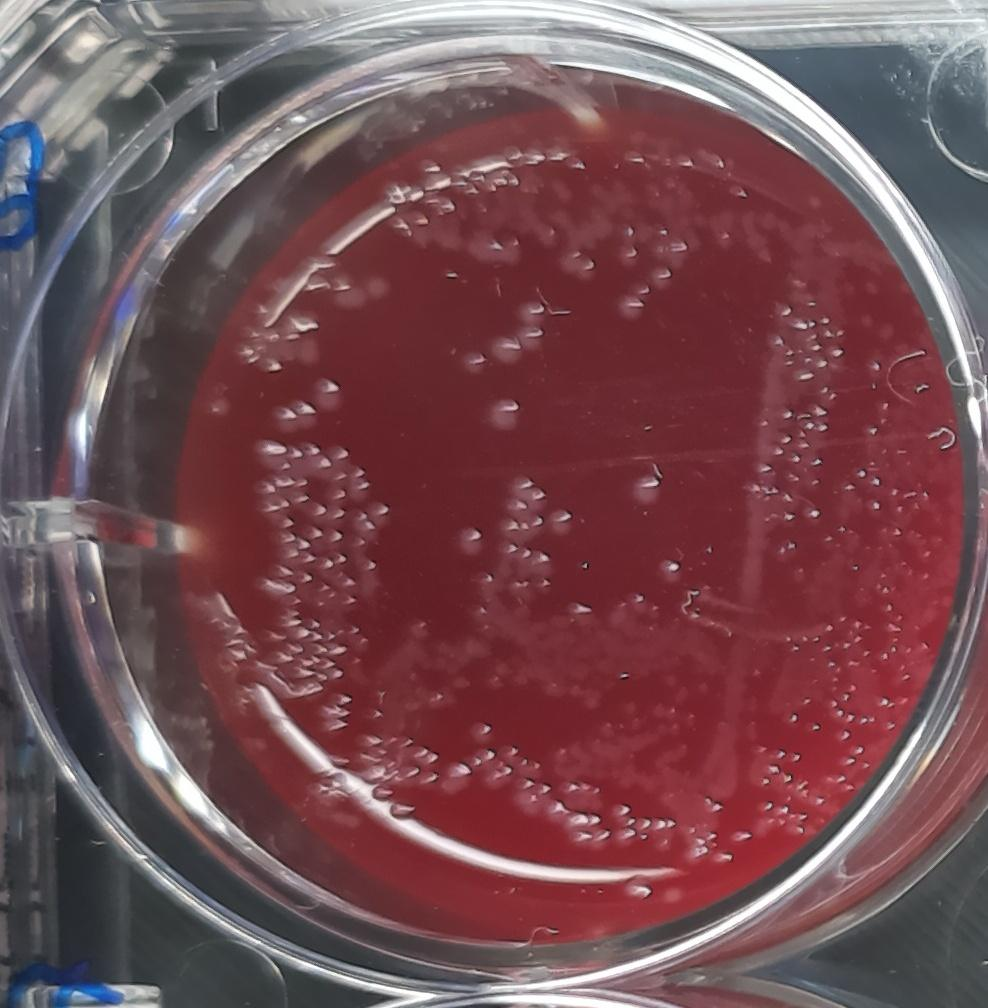pdpiscicida: (497, 476, 547, 545), (465, 231, 524, 269), (515, 296, 547, 352), (273, 400, 318, 434), (485, 394, 522, 433), (558, 250, 598, 284), (628, 471, 664, 508), (489, 335, 524, 370), (311, 375, 344, 412), (442, 759, 472, 797), (452, 526, 485, 558), (256, 438, 287, 471), (294, 336, 324, 369), (613, 294, 645, 324), (364, 271, 393, 301), (547, 506, 575, 536), (366, 498, 393, 526), (613, 241, 640, 269), (657, 558, 685, 584), (468, 720, 496, 746), (460, 349, 486, 376), (647, 266, 673, 292), (409, 746, 441, 767), (349, 476, 371, 506), (390, 800, 418, 822), (370, 785, 396, 803)
